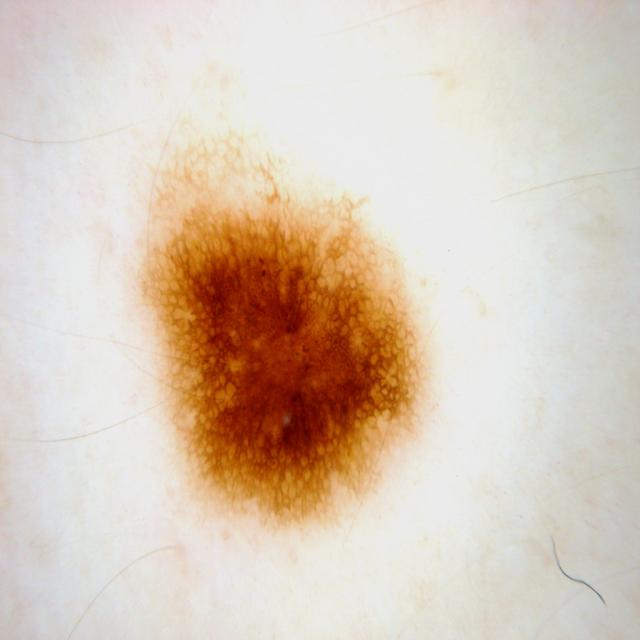Skin-Cancer Nevus: (32, 77, 560, 562)
